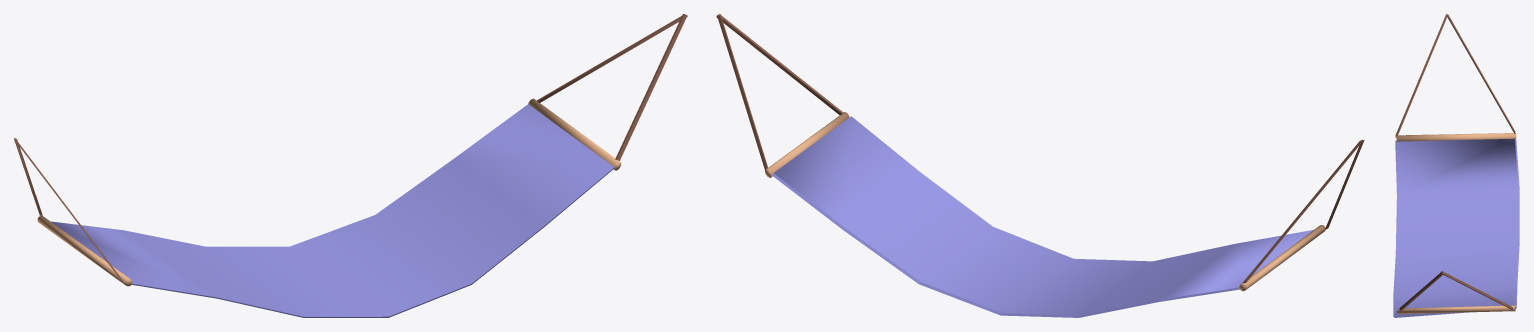
File: Hängematte 1.fbx
The picture shows the model from 3 angles, left to right: view 1: azimuth 30°, elevation 25°; view 2: azimuth 150°, elevation 25°; view 3: azimuth 270°, elevation 25°; orthographic projection. The views are drawn at different scales.
Parts seen in each view (by area): view 1: haengematte; view 2: haengematte; view 3: haengematte.
Part boxes in pixels (box(x1,y1,x2,y2)): haengematte: box(14, 14, 687, 317); haengematte: box(716, 14, 1364, 317); haengematte: box(1393, 14, 1519, 317).
Size of the model in its own units: 3356 by 1124 by 771.
